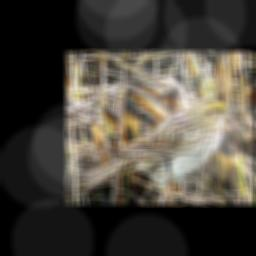Sparrow: (82, 96, 238, 201)
